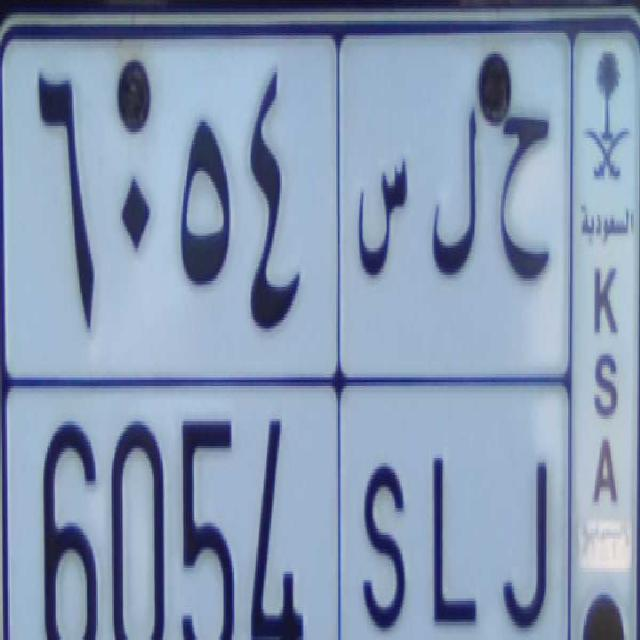license_plate: (12, 370, 562, 640)
